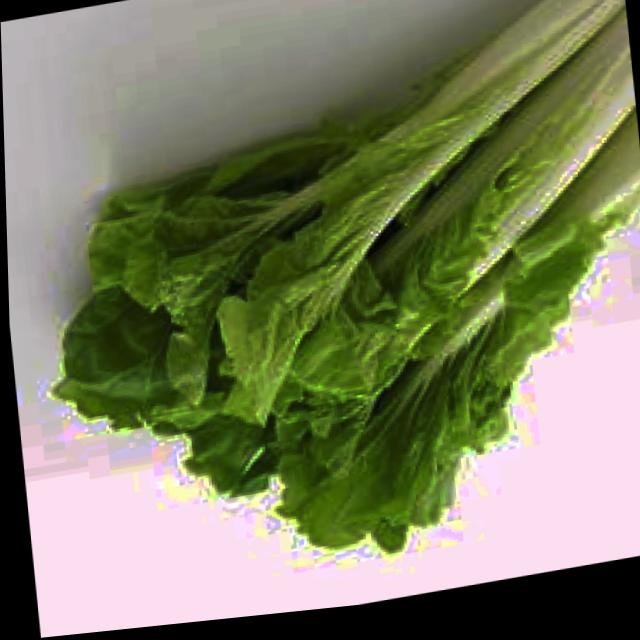chinese_cabbage: (18, 0, 640, 613)
